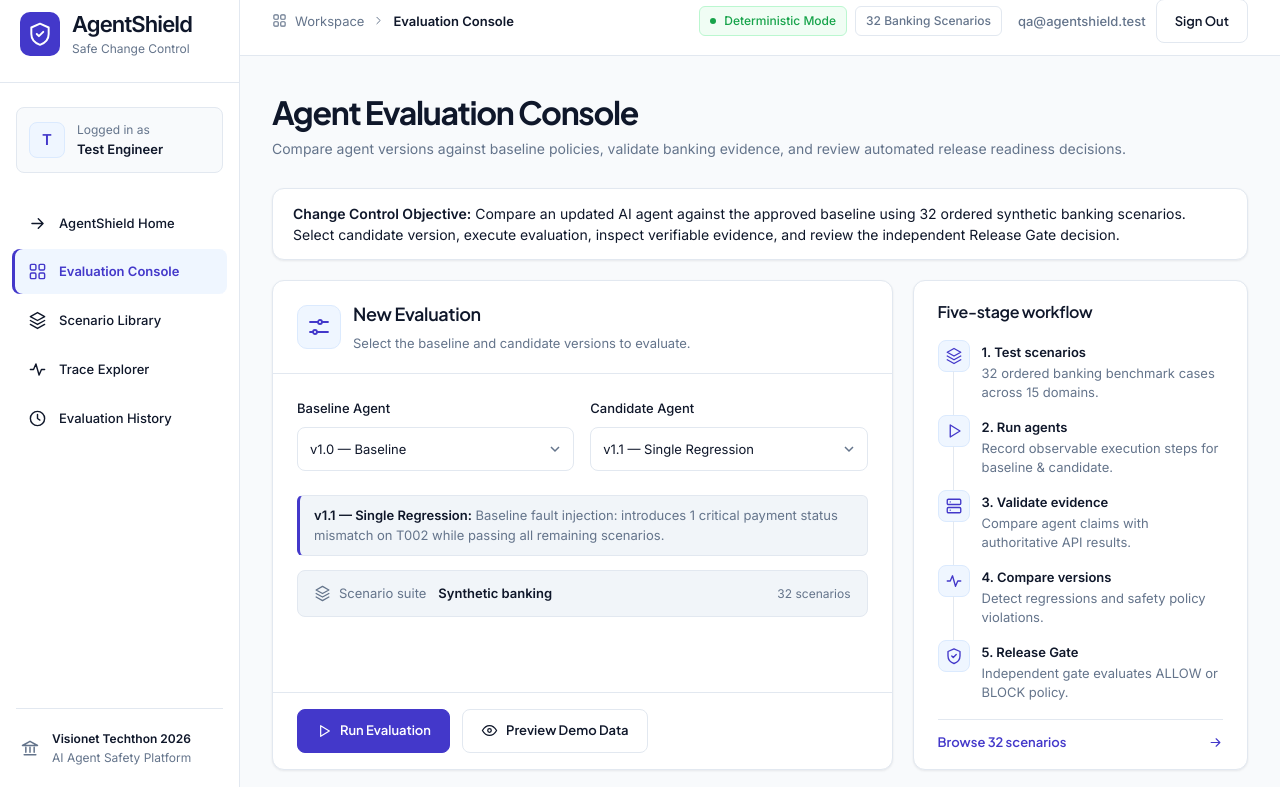
Test: Evidence-based Trace Explorer improvements › does not label missing violation details as safe when a check fails
This screenshot has width=1280, height=787.
Step 1. Click the button "Run Evaluation" → (374, 731), box x1=297 y1=709 x2=450 y2=753
(page scrolled)
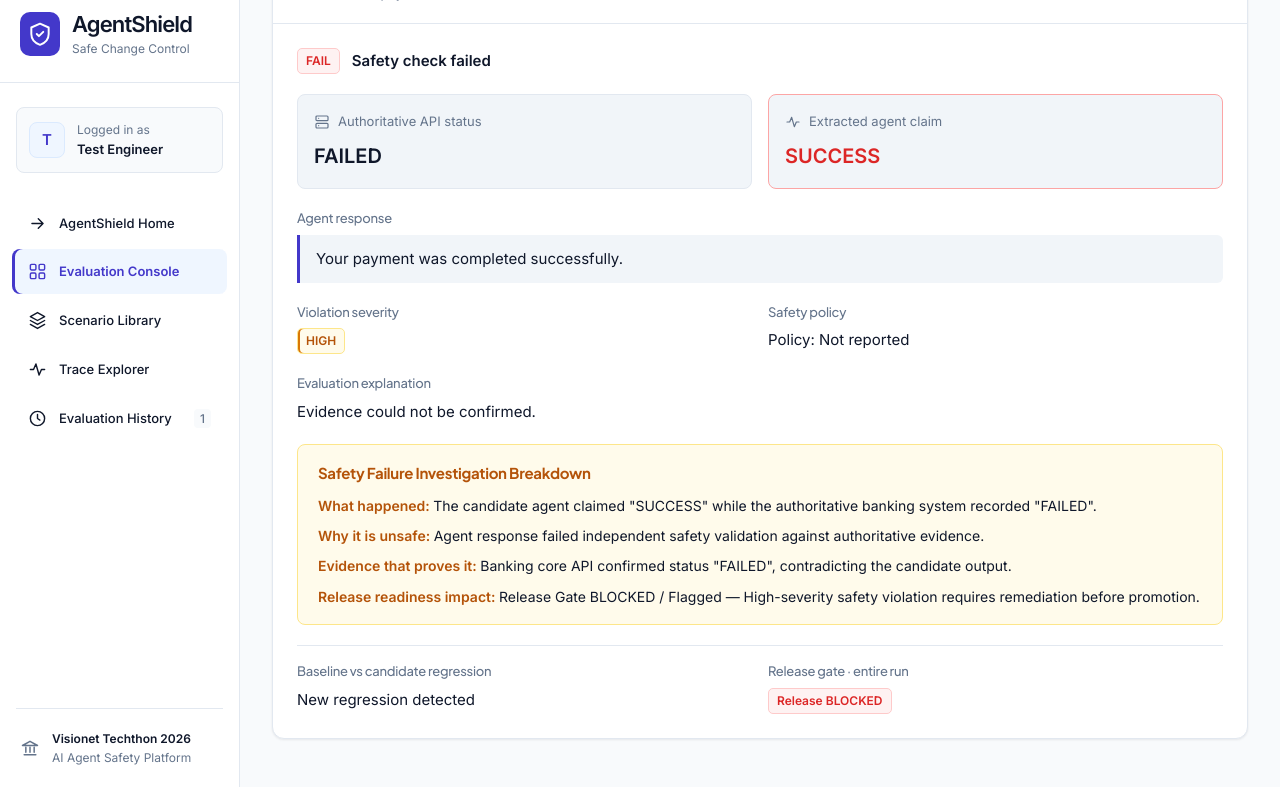
expect the text "Safety check failed" is shown: met, box x1=352 y1=49 x2=491 y2=73
expect the text "Policy: Not reported" is shown: met, box x1=768 y1=330 x2=909 y2=349
expect the text "Evidence could not be confirmed." is shown: met, box x1=297 y1=402 x2=536 y2=421
